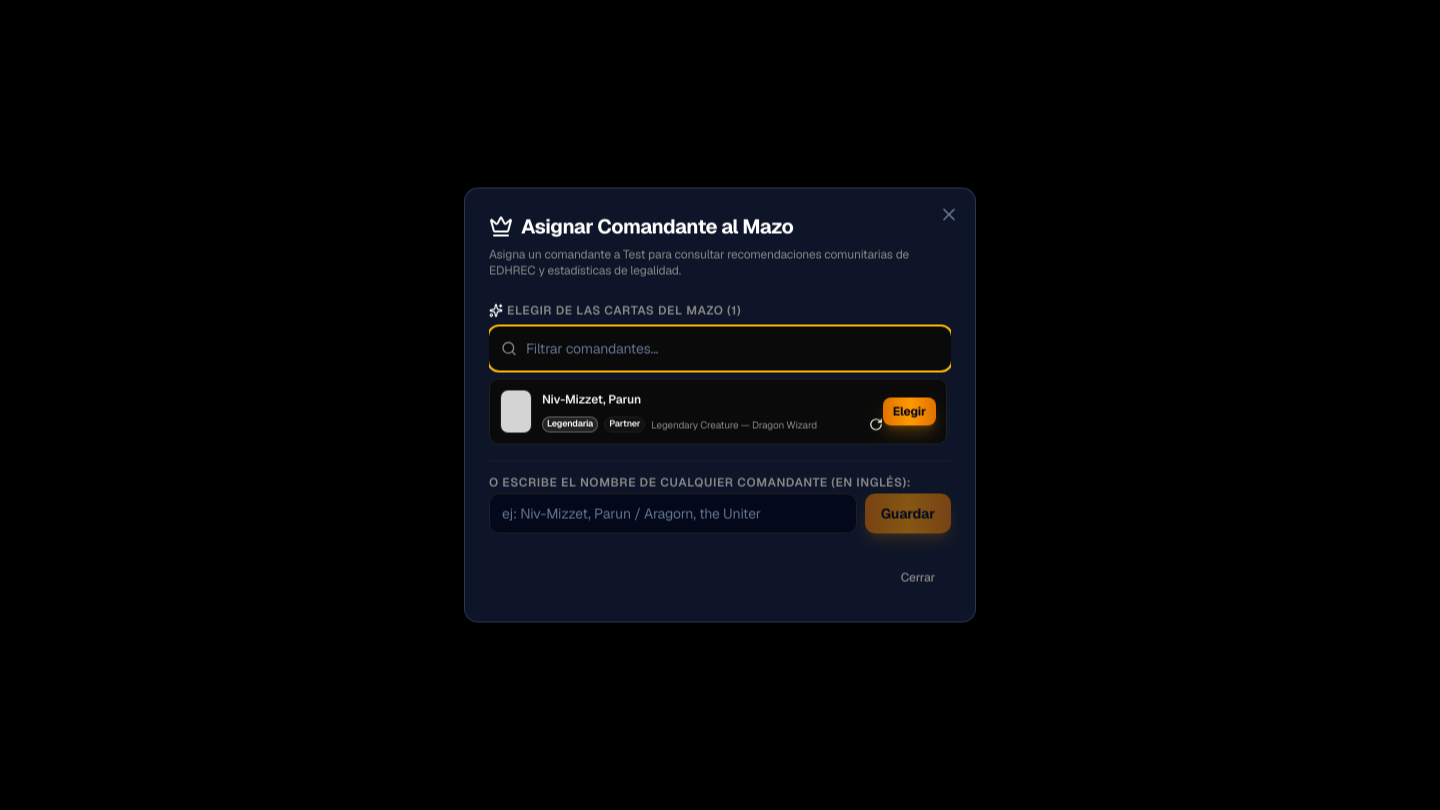
it: SelectCommanderDialog Component › batches only candidates and reuses metadata when selecting
The width and height of the screenshot is (1440, 810).
Expected: the element titled "Carta transformable: ver ambas caras" is shown, [869,418,883,432]
Click the button "Elegir". click: (909, 412)
box: [883,398,936,426]
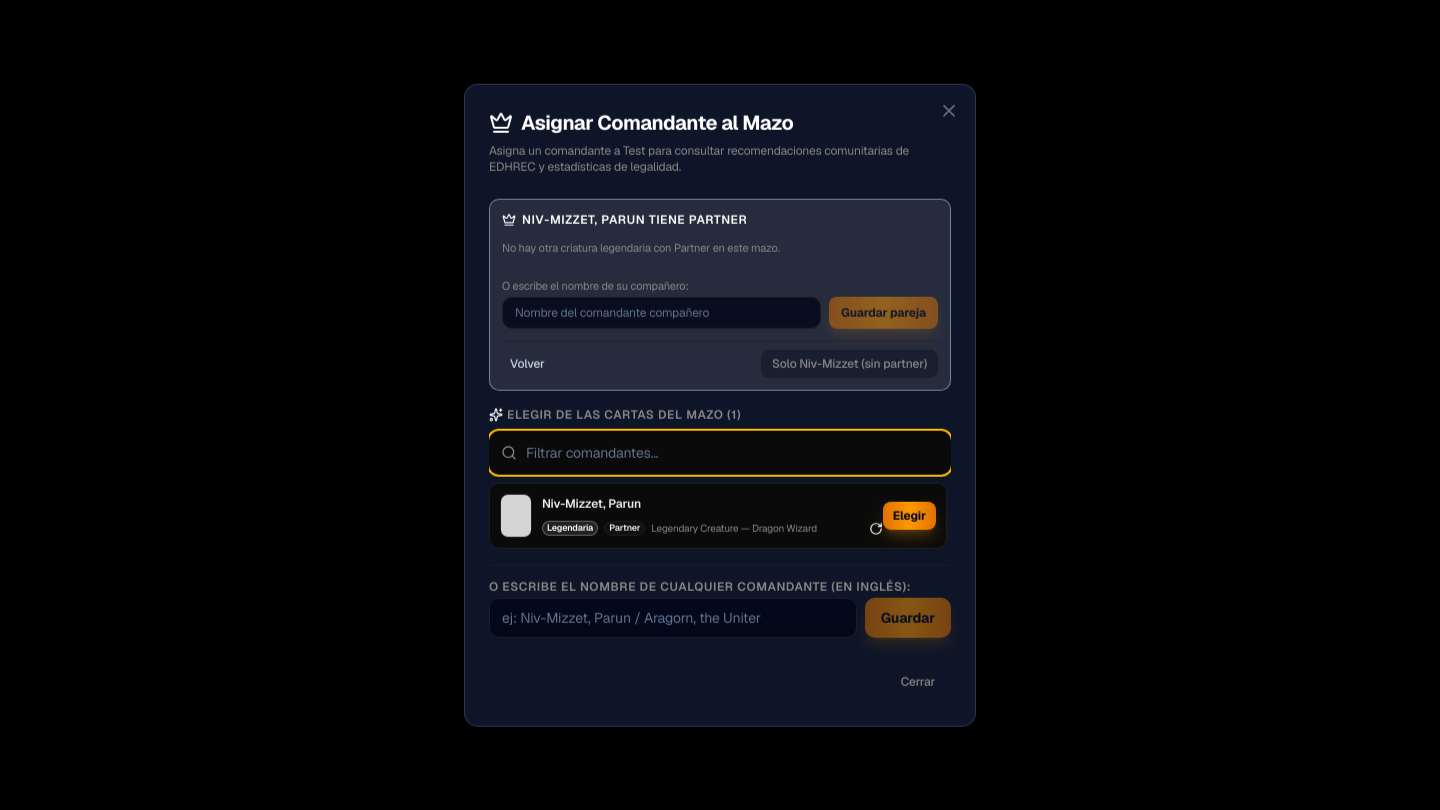
Result: the text "Niv-Mizzet, Parun tiene Partner" is shown at [502,212,747,228]
